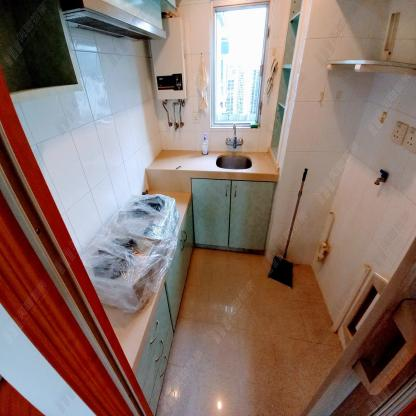Cupboard: (132, 177, 279, 416)
Exhaust Hood: (59, 0, 169, 43), (62, 8, 166, 42)
Faucet: (227, 122, 244, 149)
Sink: (209, 150, 258, 174), (214, 154, 252, 170)
